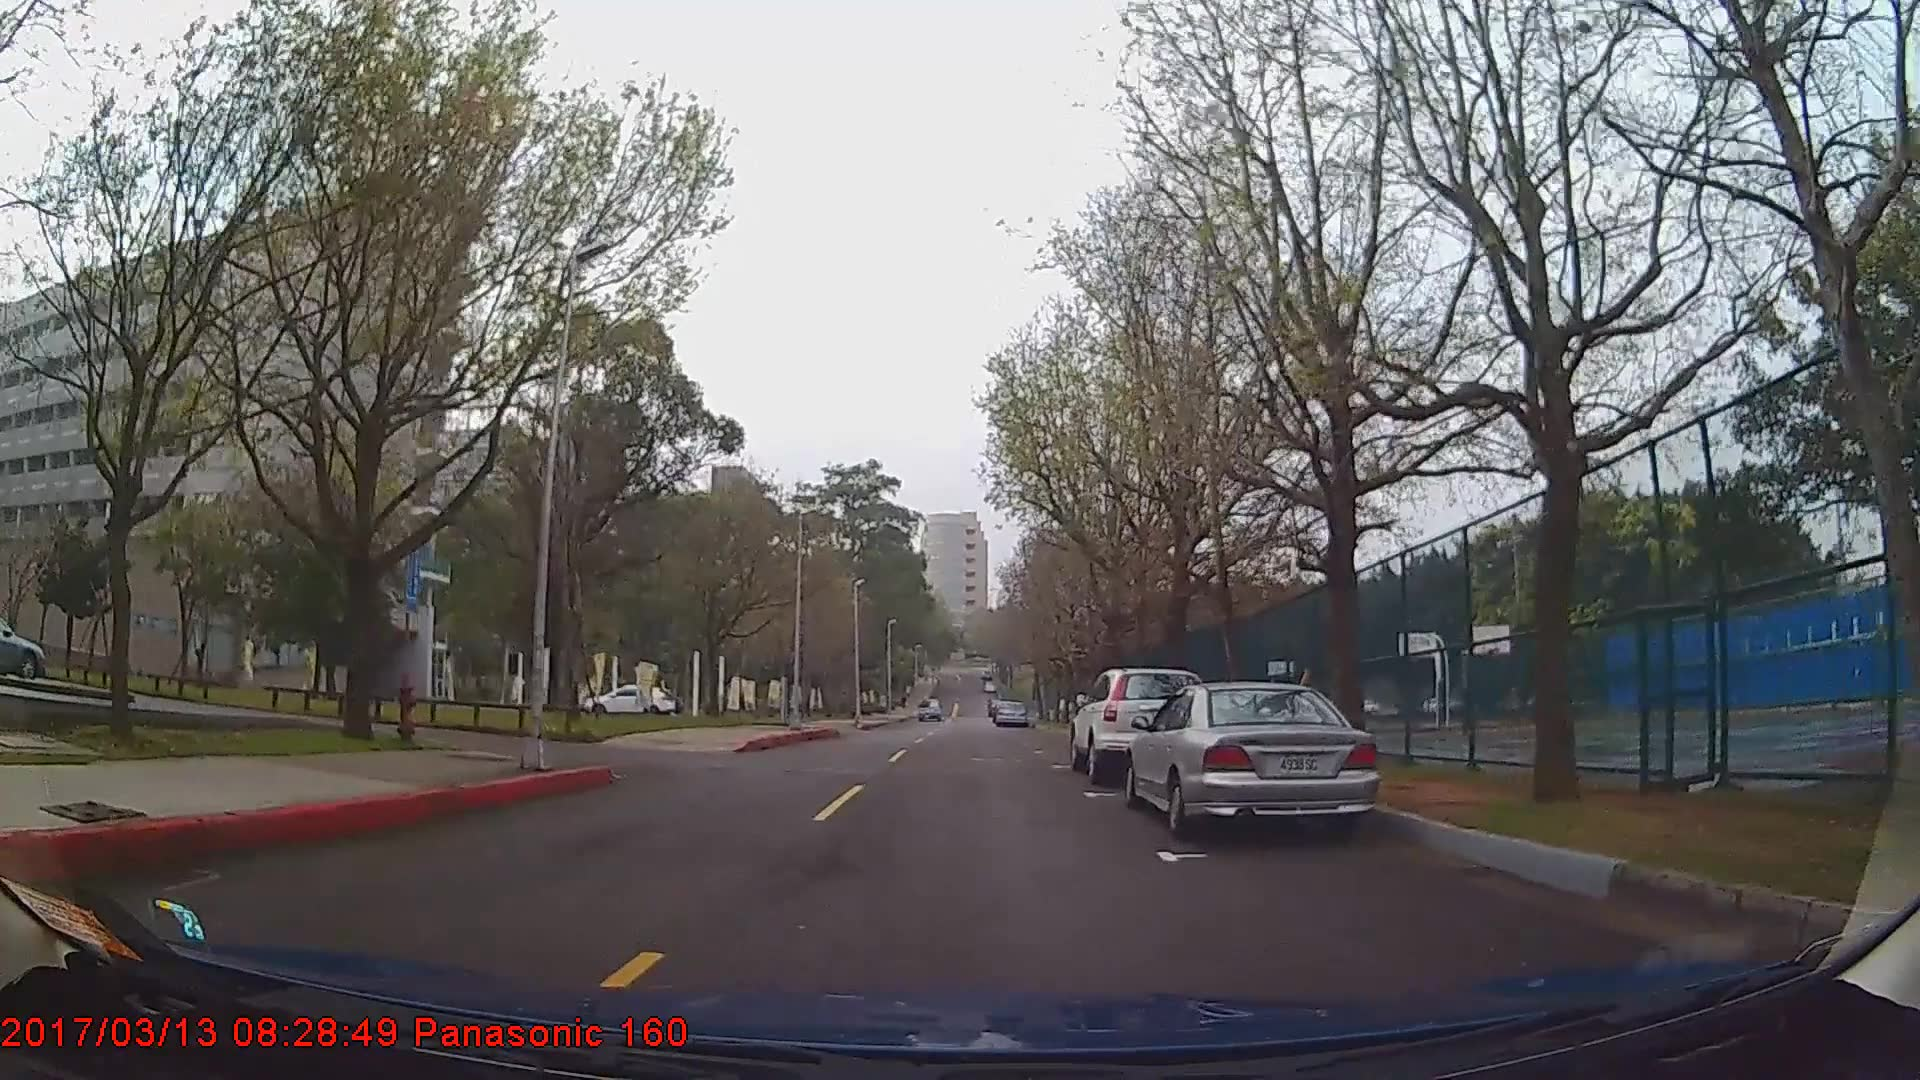vehicle: (1125, 680, 1378, 841), (1069, 669, 1207, 783), (582, 683, 676, 716), (0, 618, 46, 683), (992, 700, 1027, 727)
